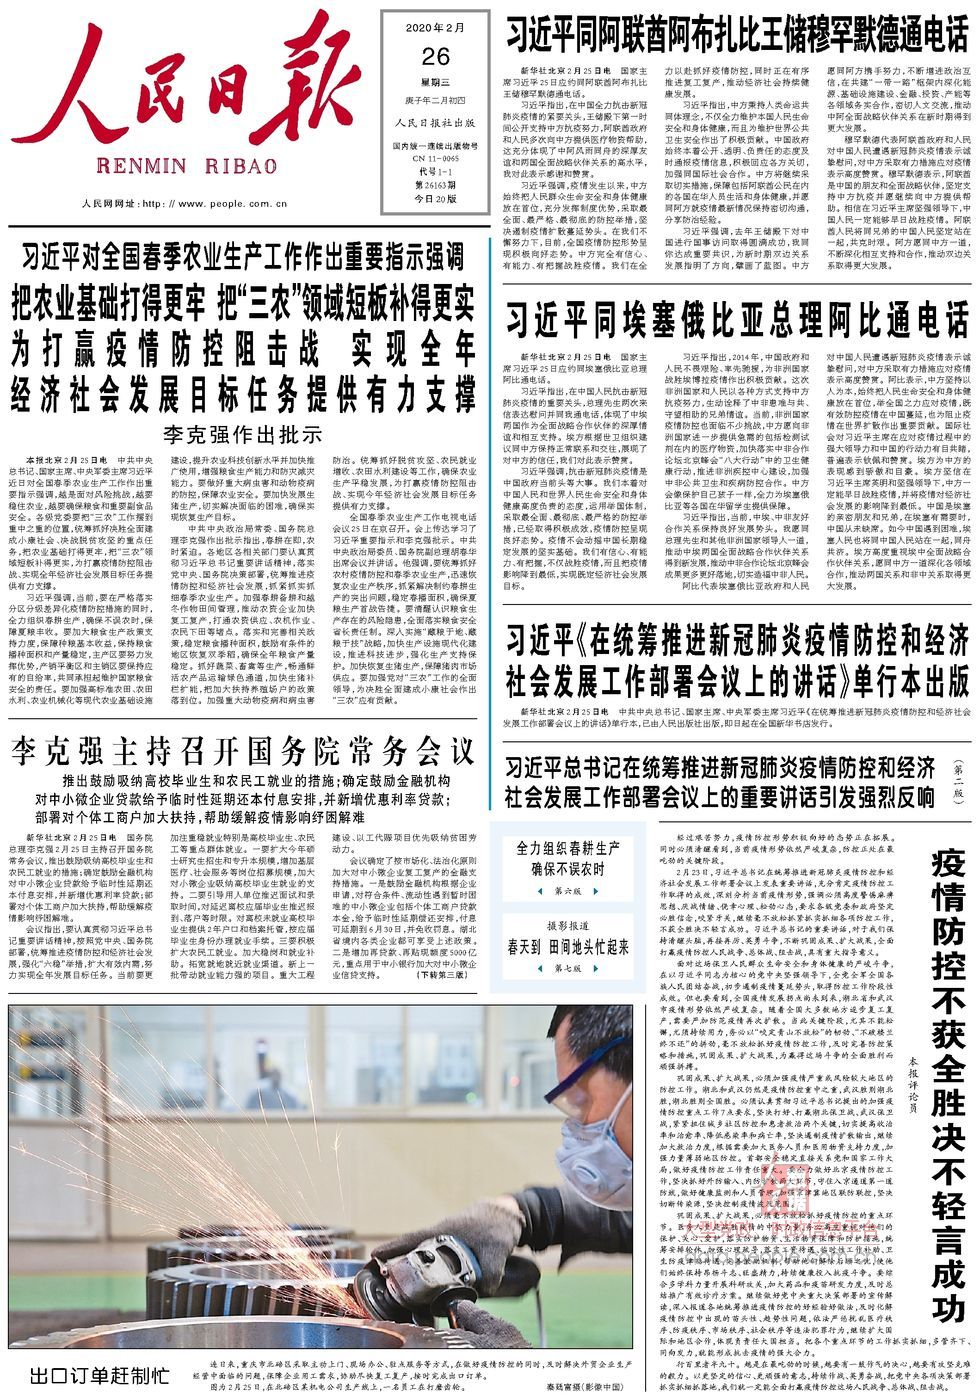pic: (3, 998, 640, 1356)
